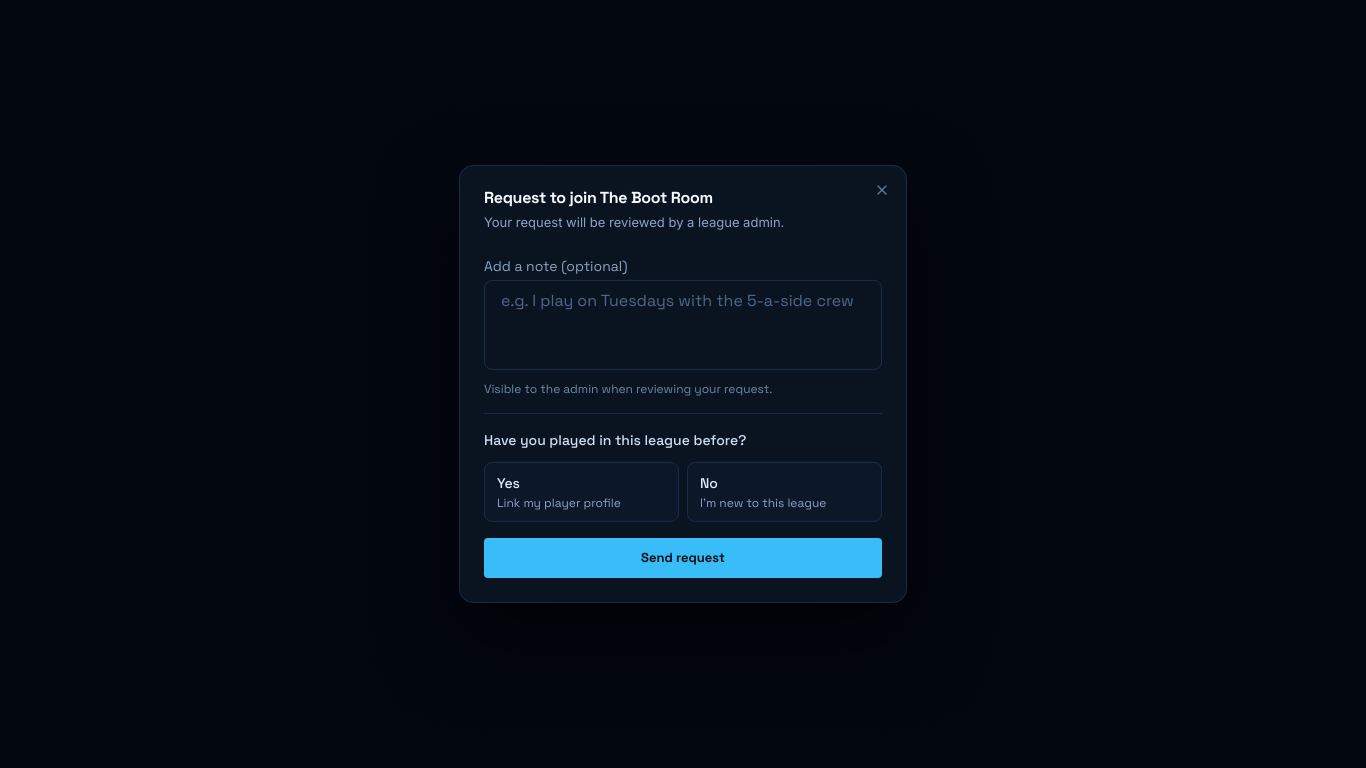
JoinRequestDialog › can go back to picking a name
What coordinates should you click on to do the following:
click the button "Yes Link my player profile"
I would click on:
 (582, 492)
Its box is [484,462,679,522].
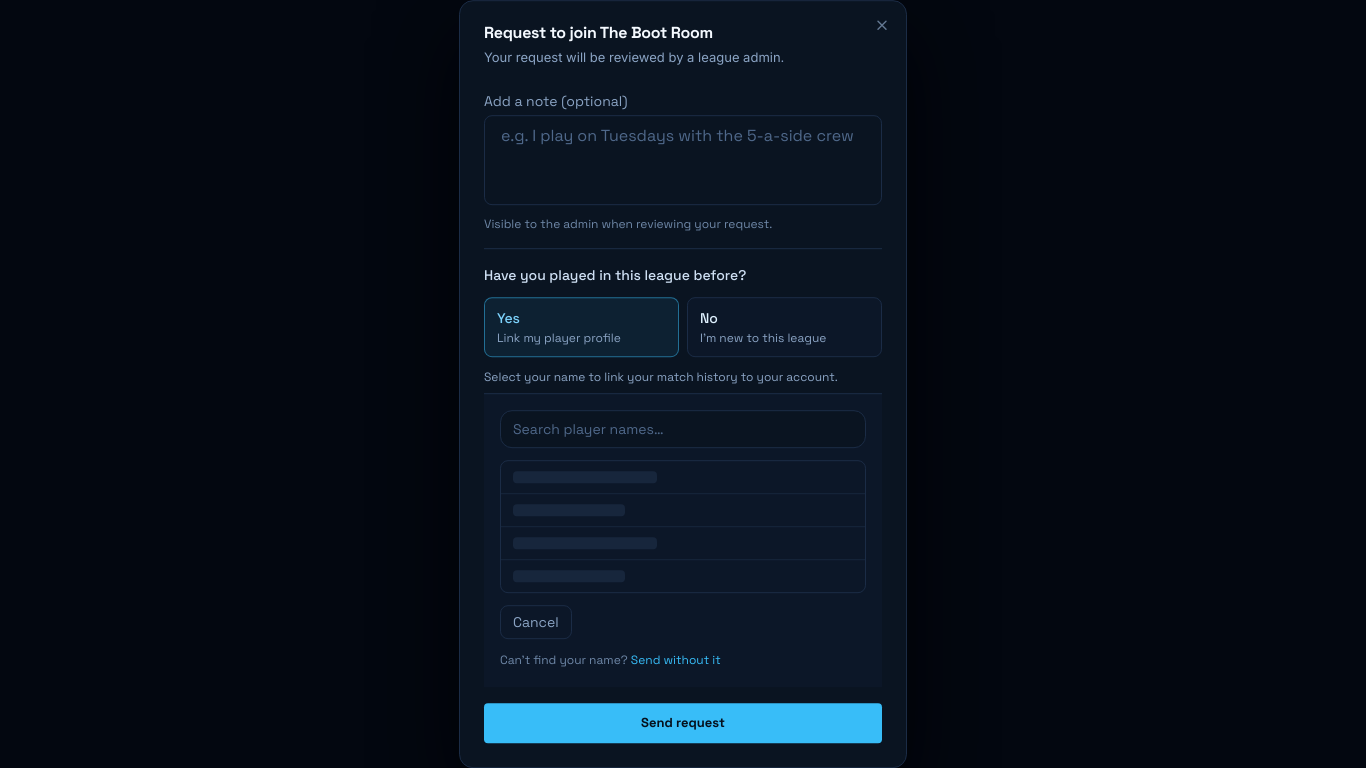
What coordinates should you click on to do the following:
click the button "Send without it"
I would click on:
 (676, 661)
Its box is [631,651,721,671].
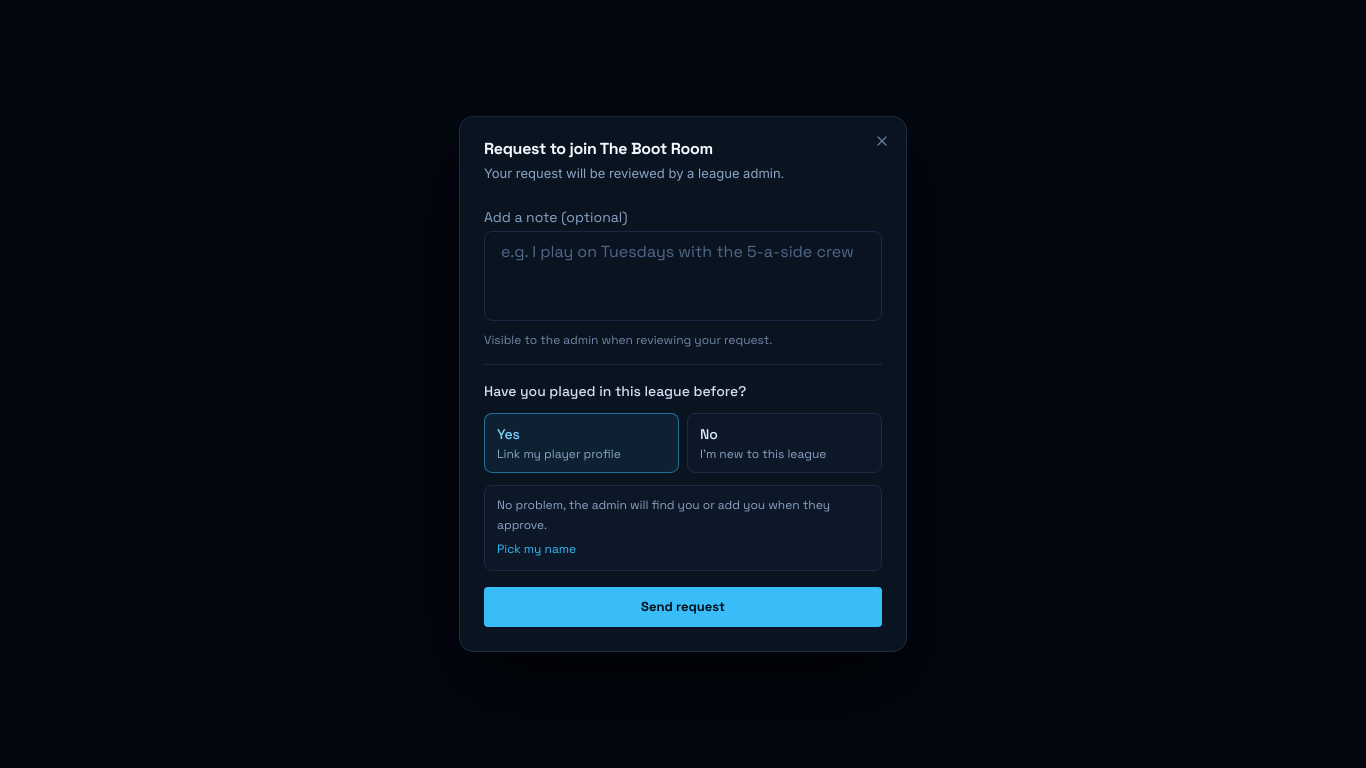
What coordinates should you click on to do the following:
click the button "Pick my name"
I would click on:
 (537, 549)
Its box is [497,541,576,557].
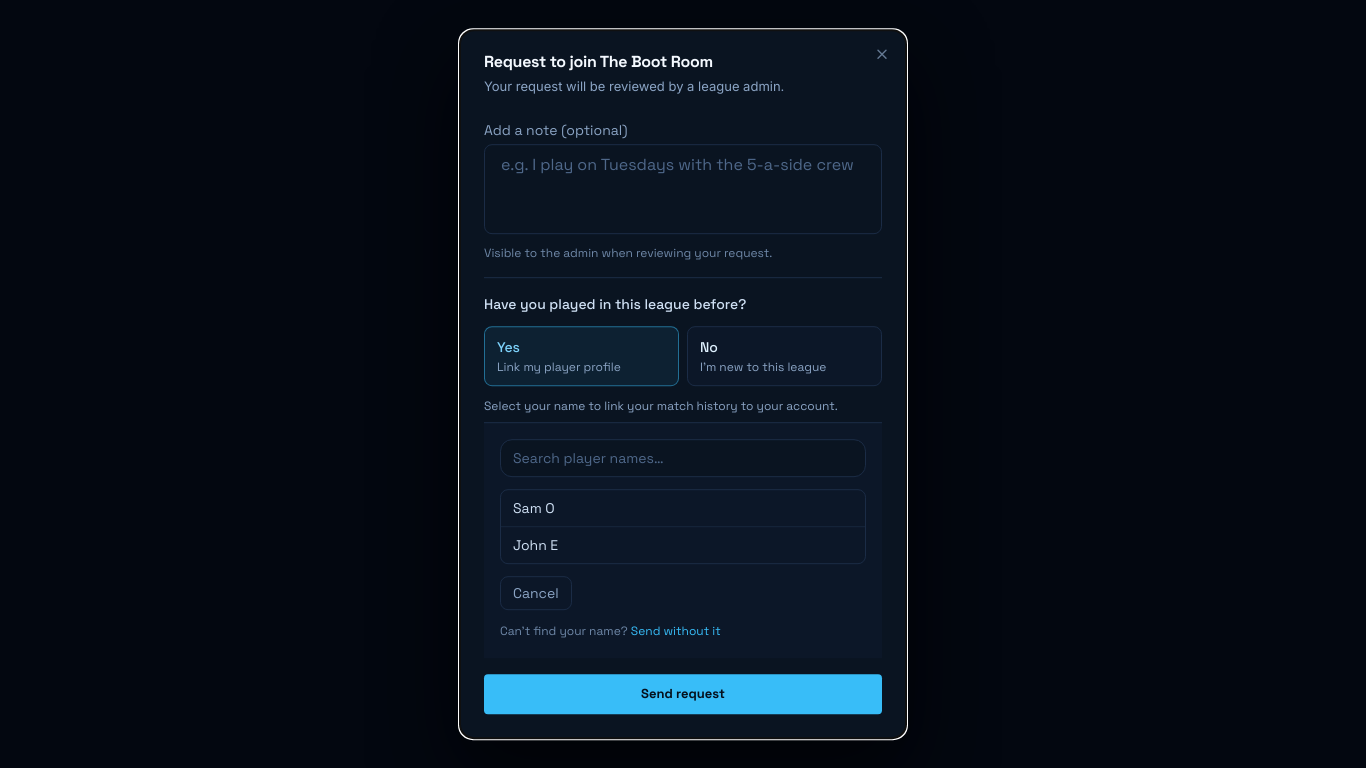
Now the button "Sam O" is shown, box [501,490,865,527]
